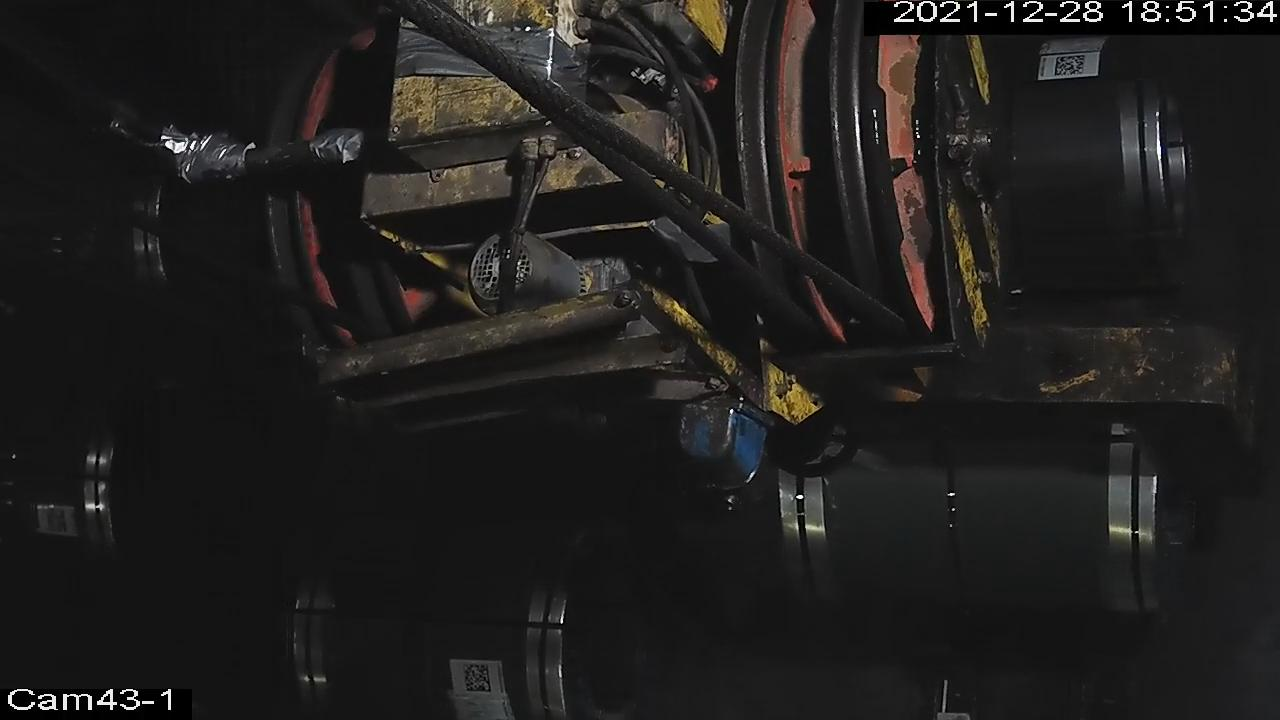data matrix: (462, 662, 495, 695), (1054, 54, 1087, 79)
